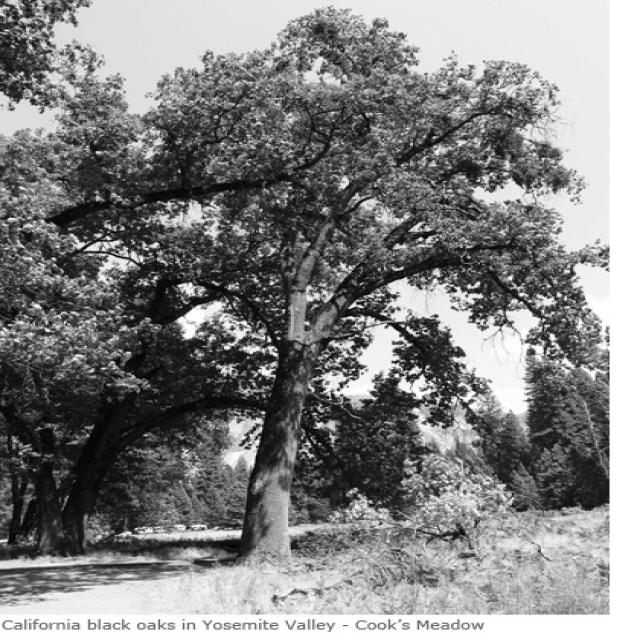Quercus kelloggii: (55, 7, 587, 555)
